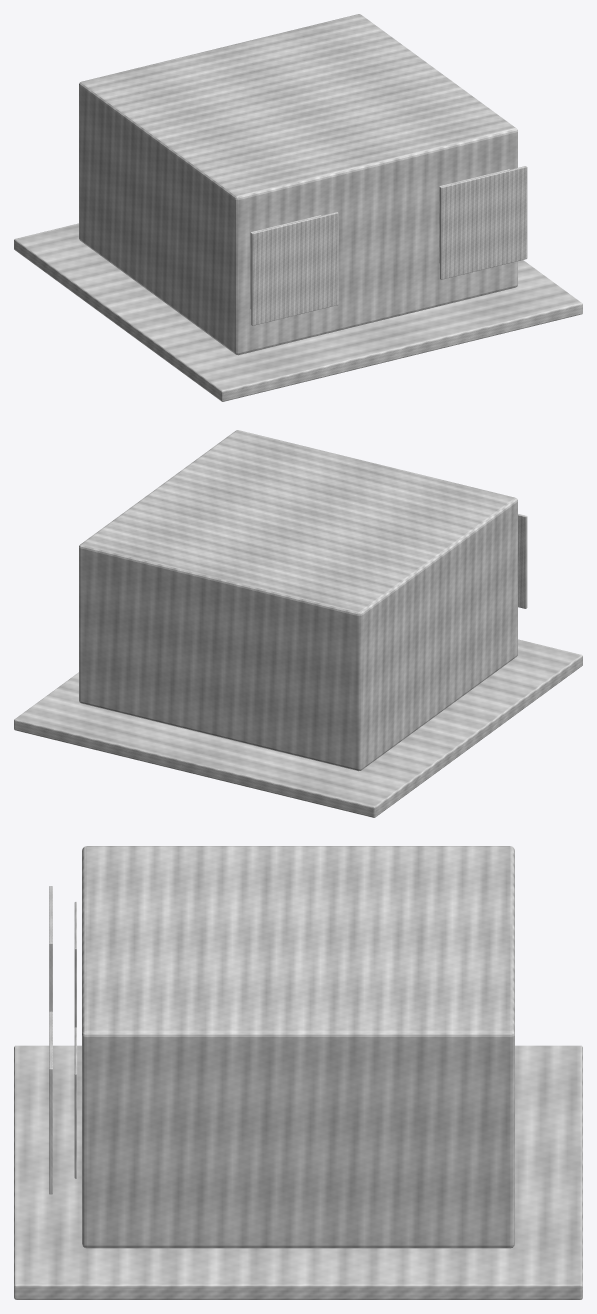
File: blueprint-designer_variant_a.glb
3 renders of one model, top to bottom at view 1: azimuth 30°, elevation 25°; view 2: azimuth 150°, elevation 25°; view 3: azimuth 270°, elevation 25°, orthographic. The views are drawn at different scales.
Parts seen in each view (by area): view 1: Main structural housing, Foundation, Protective frame, Protective frame.001; view 2: Main structural housing, Foundation, Protective frame; view 3: Main structural housing, Foundation, Protective frame.001.
Part boxes in pixels (bbox=[...]): Main structural housing: bbox=[79, 14, 517, 355]; Foundation: bbox=[14, 223, 582, 401]; Protective frame: bbox=[251, 212, 338, 325]; Protective frame.001: bbox=[440, 166, 527, 279]; Main structural housing: bbox=[79, 430, 517, 771]; Foundation: bbox=[14, 639, 582, 817]; Protective frame: bbox=[518, 514, 527, 608]; Main structural housing: bbox=[82, 846, 514, 1248]; Foundation: bbox=[14, 1045, 582, 1299]; Protective frame.001: bbox=[49, 1011, 52, 1194].
Size of what is drawn, in the model's own units: 14.72 by 6.9 by 14.72.
Materials: 4 (4 with a texture image).
